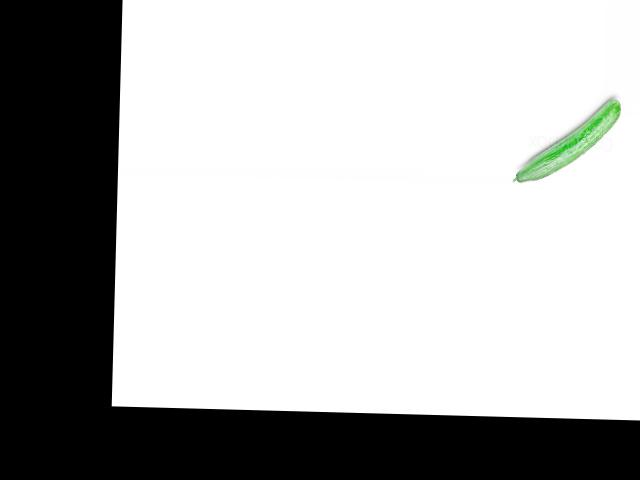cucumber: (511, 95, 620, 184)
